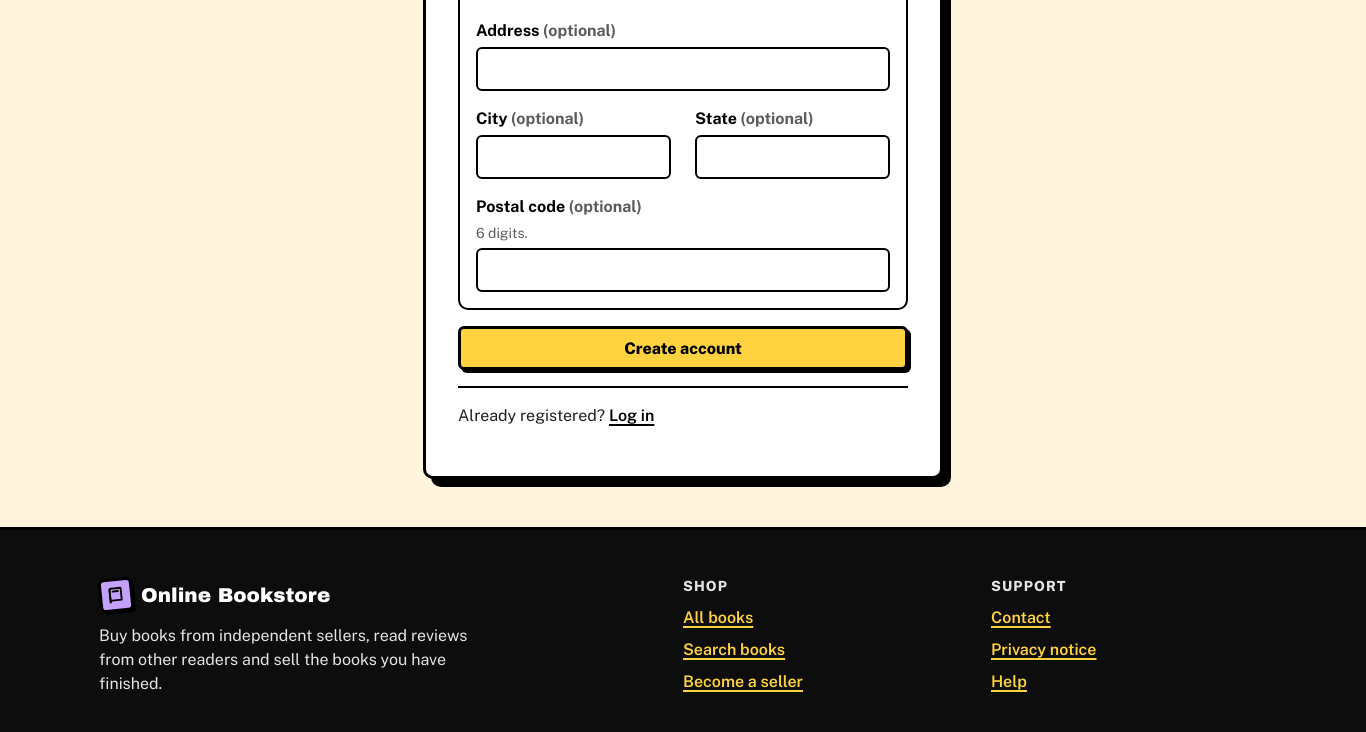
Scenario: Registration page › TC-ST01-06 / TC-NFR-UI-02: empty mandatory fields show inline errors with an icon, and nothing is sent
The width and height of the screenshot is (1366, 732).
(page scrolled)
Click the button "Create account" at (683, 348), box x1=458 y1=326 x2=908 y2=370
(page scrolled)
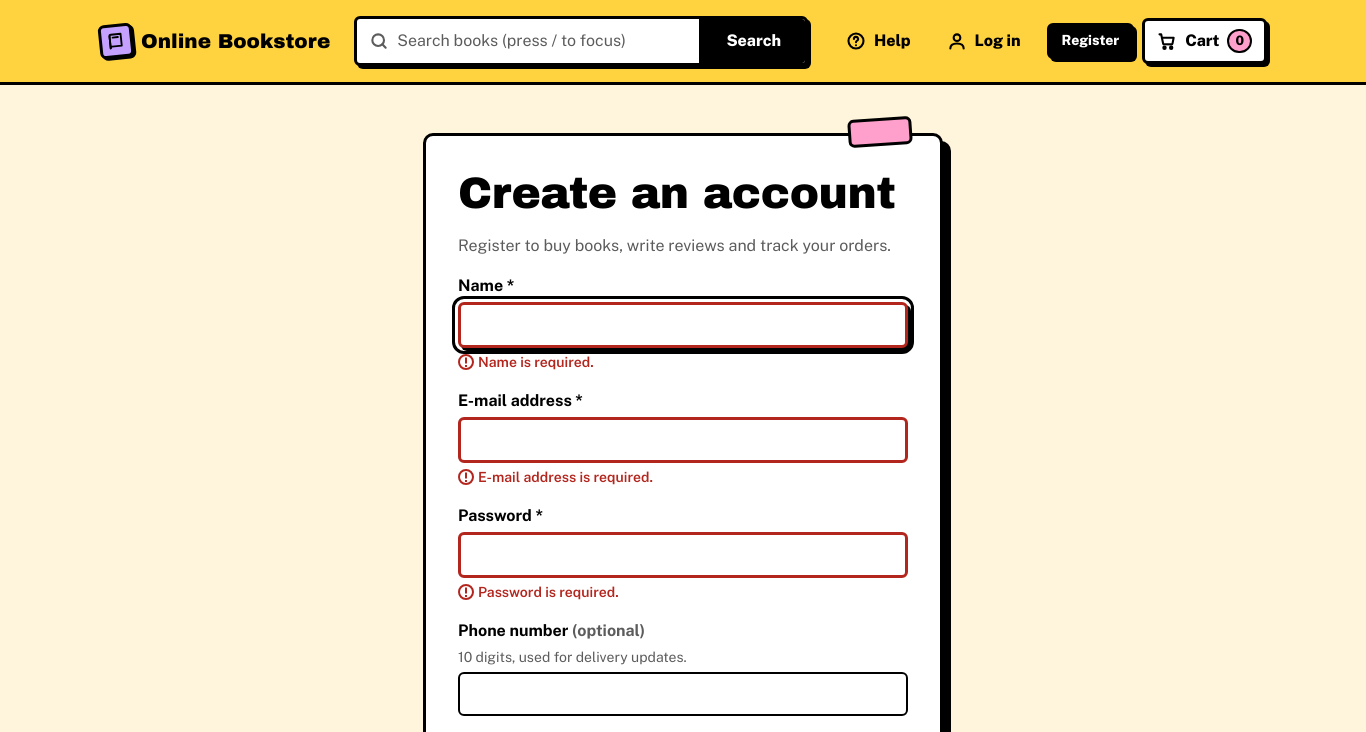
Expected: the element showing "Name is required." is shown, x1=458 y1=354 x2=594 y2=370
Expected: the element showing "E-mail address is required." is shown, x1=458 y1=469 x2=653 y2=485
Expected: the element showing "Password is required." is shown, x1=458 y1=584 x2=619 y2=600
